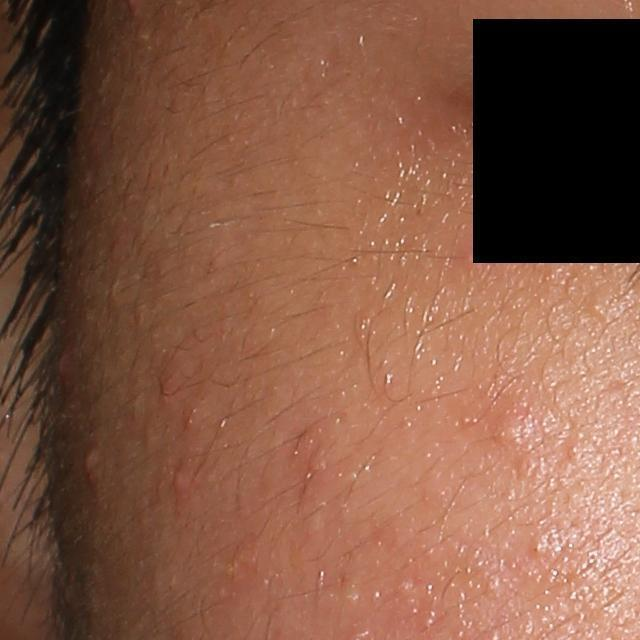comedo: (527, 520, 572, 567), (489, 413, 533, 450)
papule: (75, 441, 105, 488)
